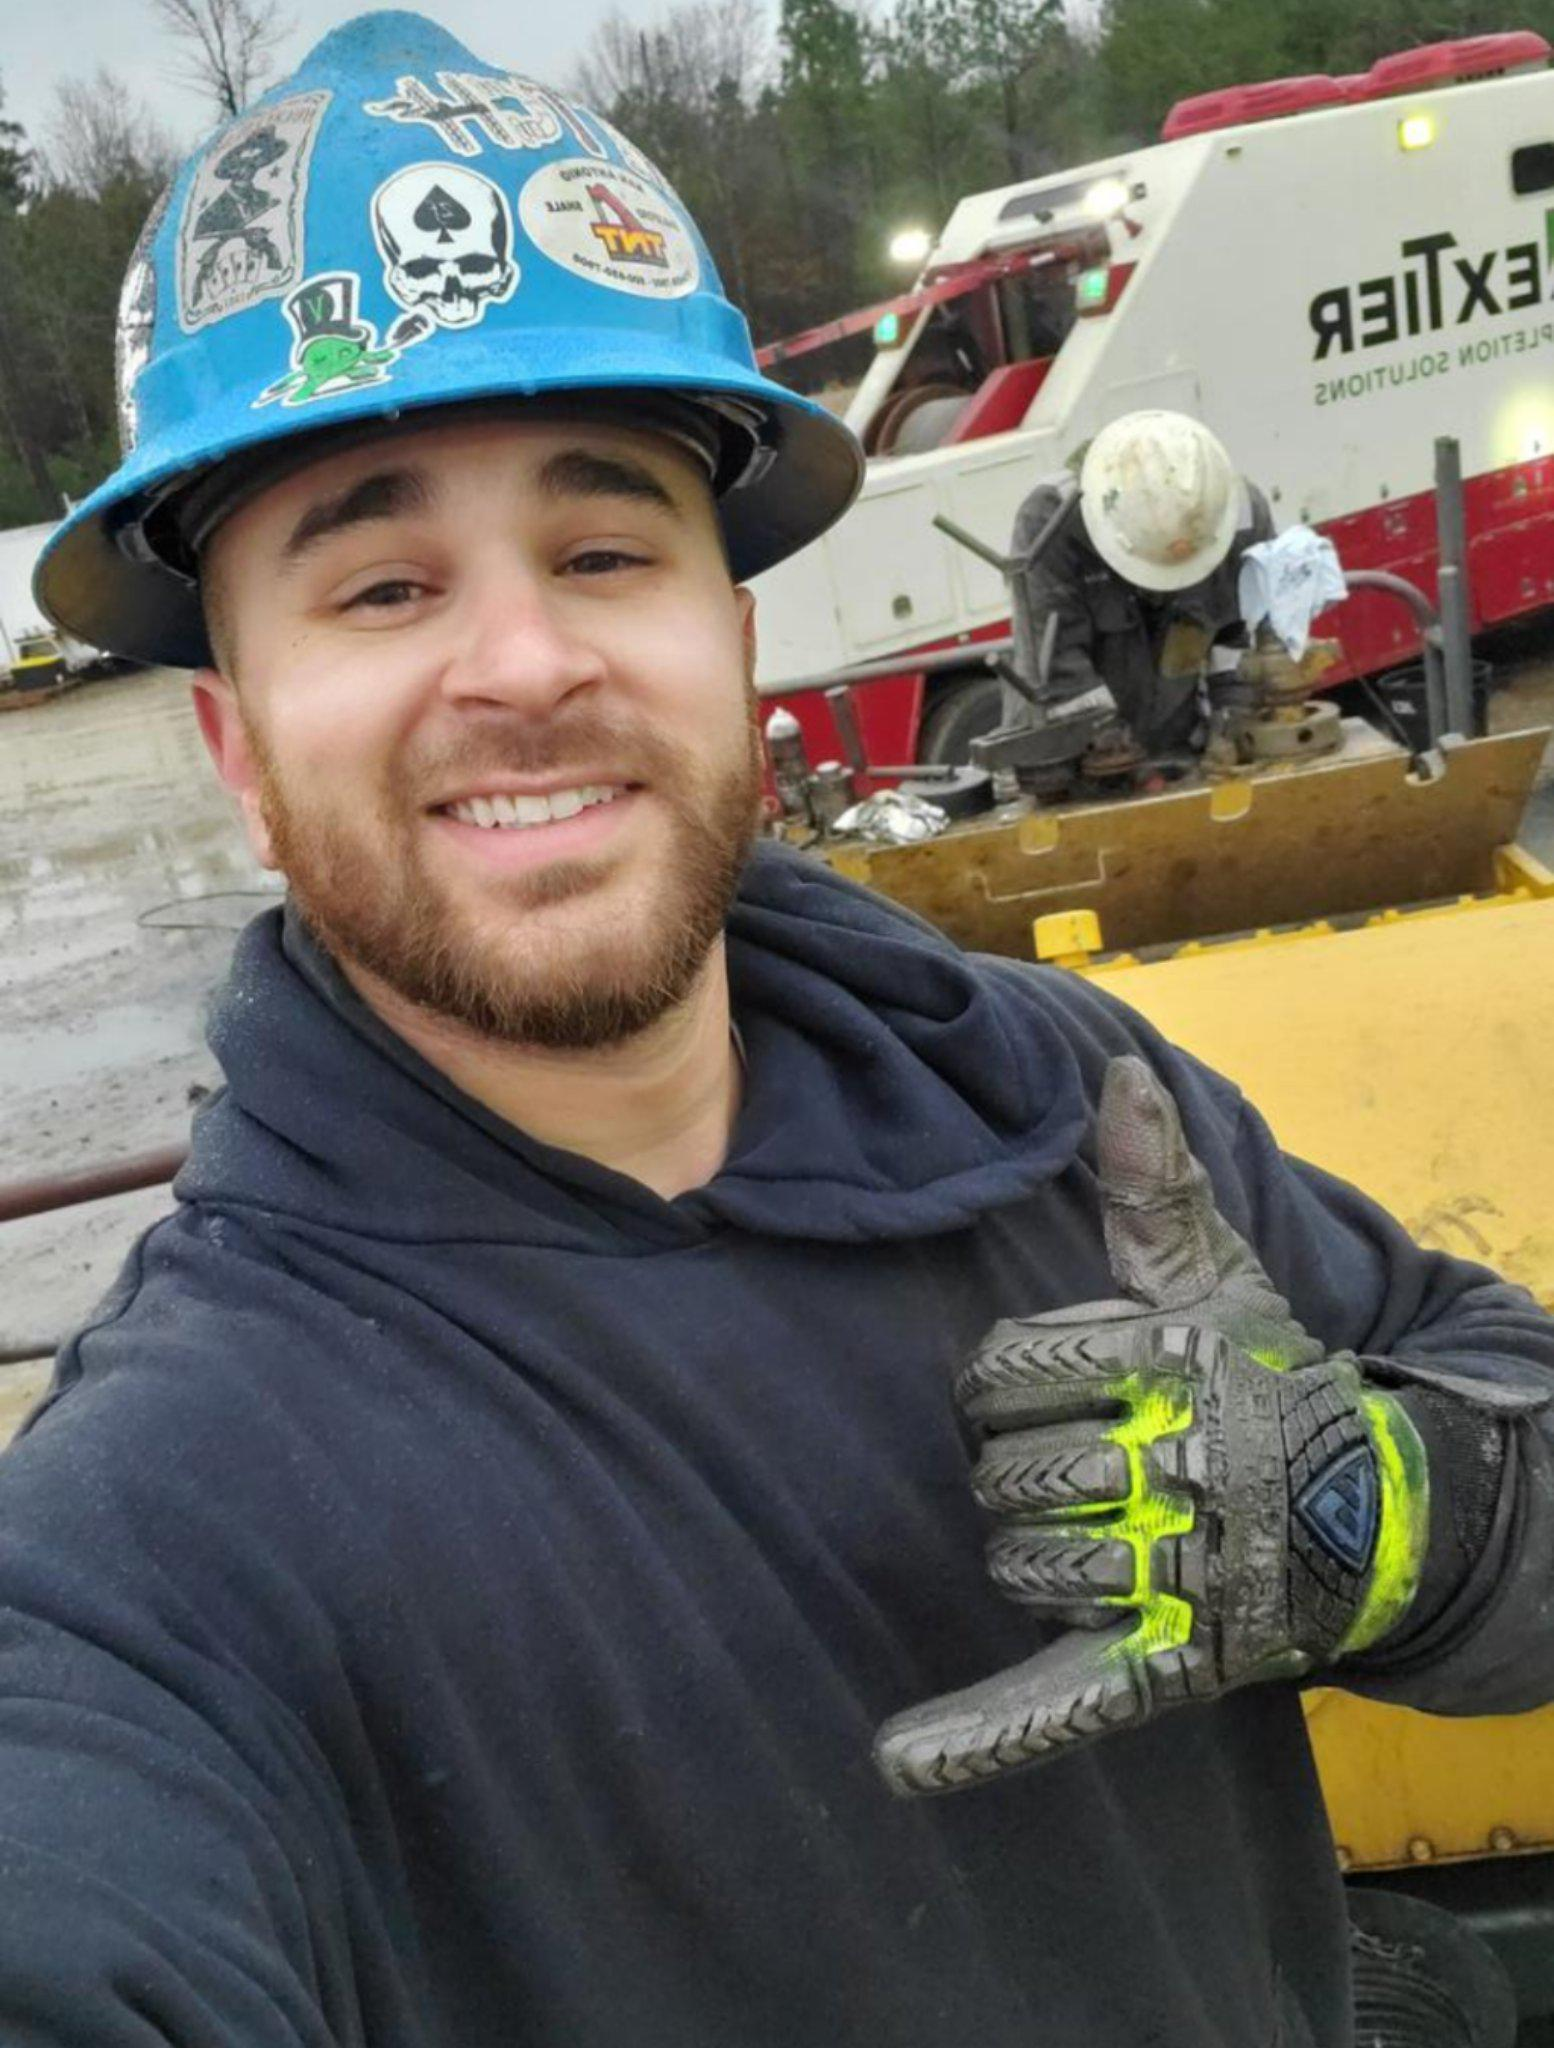helmet: (31, 10, 862, 666), (1077, 406, 1241, 591)
